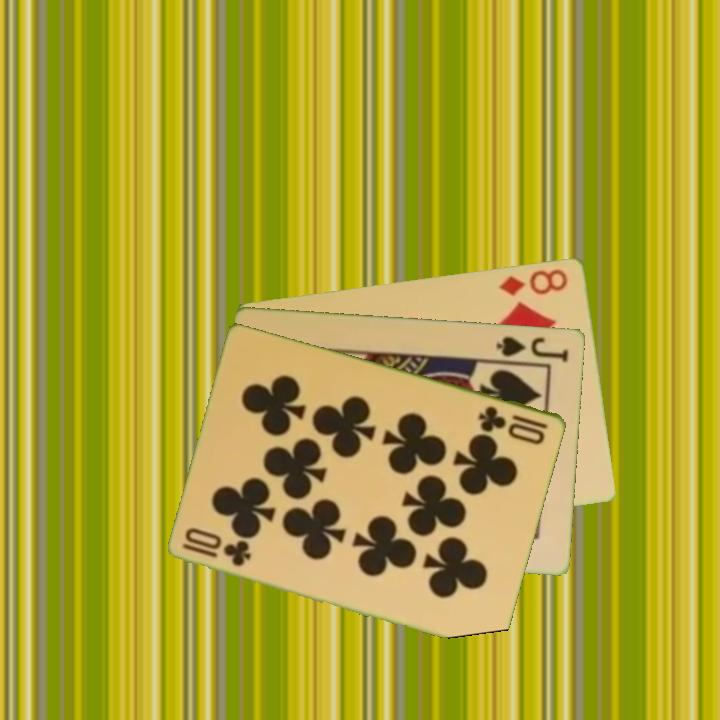10c: (475, 402, 551, 447), (179, 526, 255, 569)
8d: (496, 265, 571, 298)
Js: (493, 332, 572, 365)
